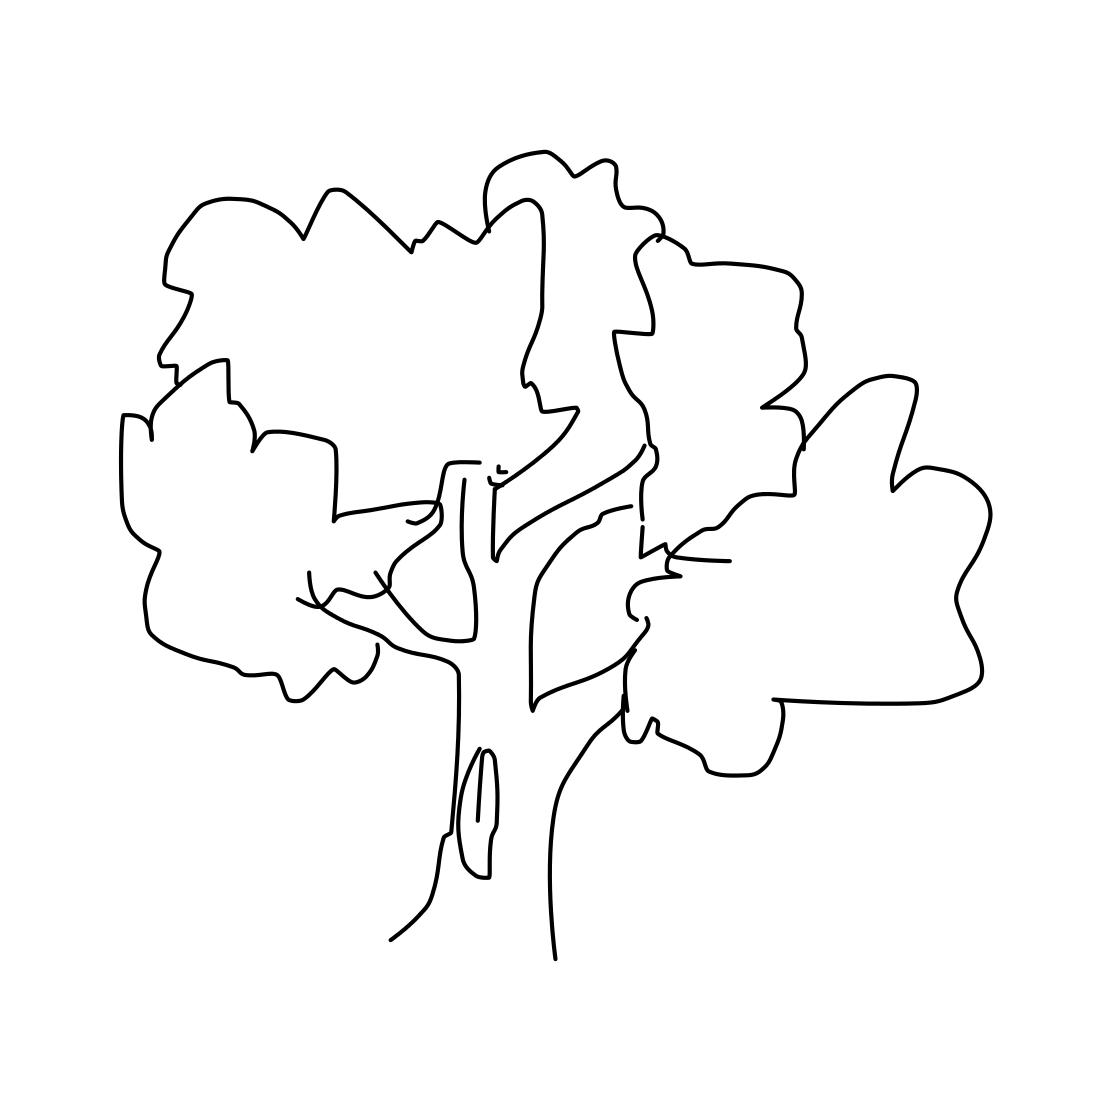Tree: (86, 117, 997, 970)
